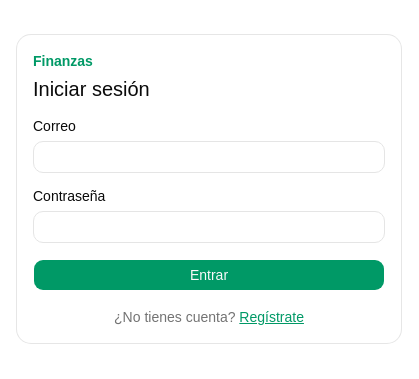
Test case: LoginPage › shows a friendly message on 401
Step 1. Type "a@b.co" into the field labelled "Correo" → [209, 157], box [33,141,385,173]
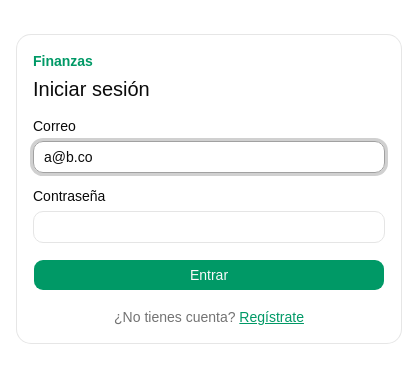
Step 2. Type "bad" into the password field labelled "Contraseña" → [209, 227], box [33,211,385,243]
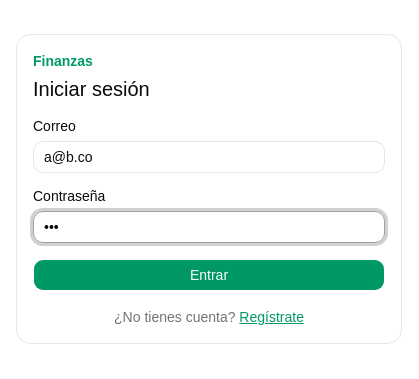
Step 3. Click the button "Entrar" → [209, 275], box [33,259,385,291]
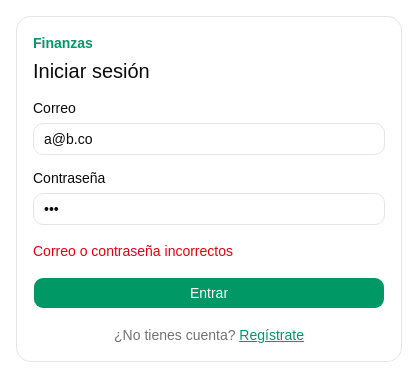
expect the message reads "Correo o contraseña incorrectos": met, box [33,243,233,259]
